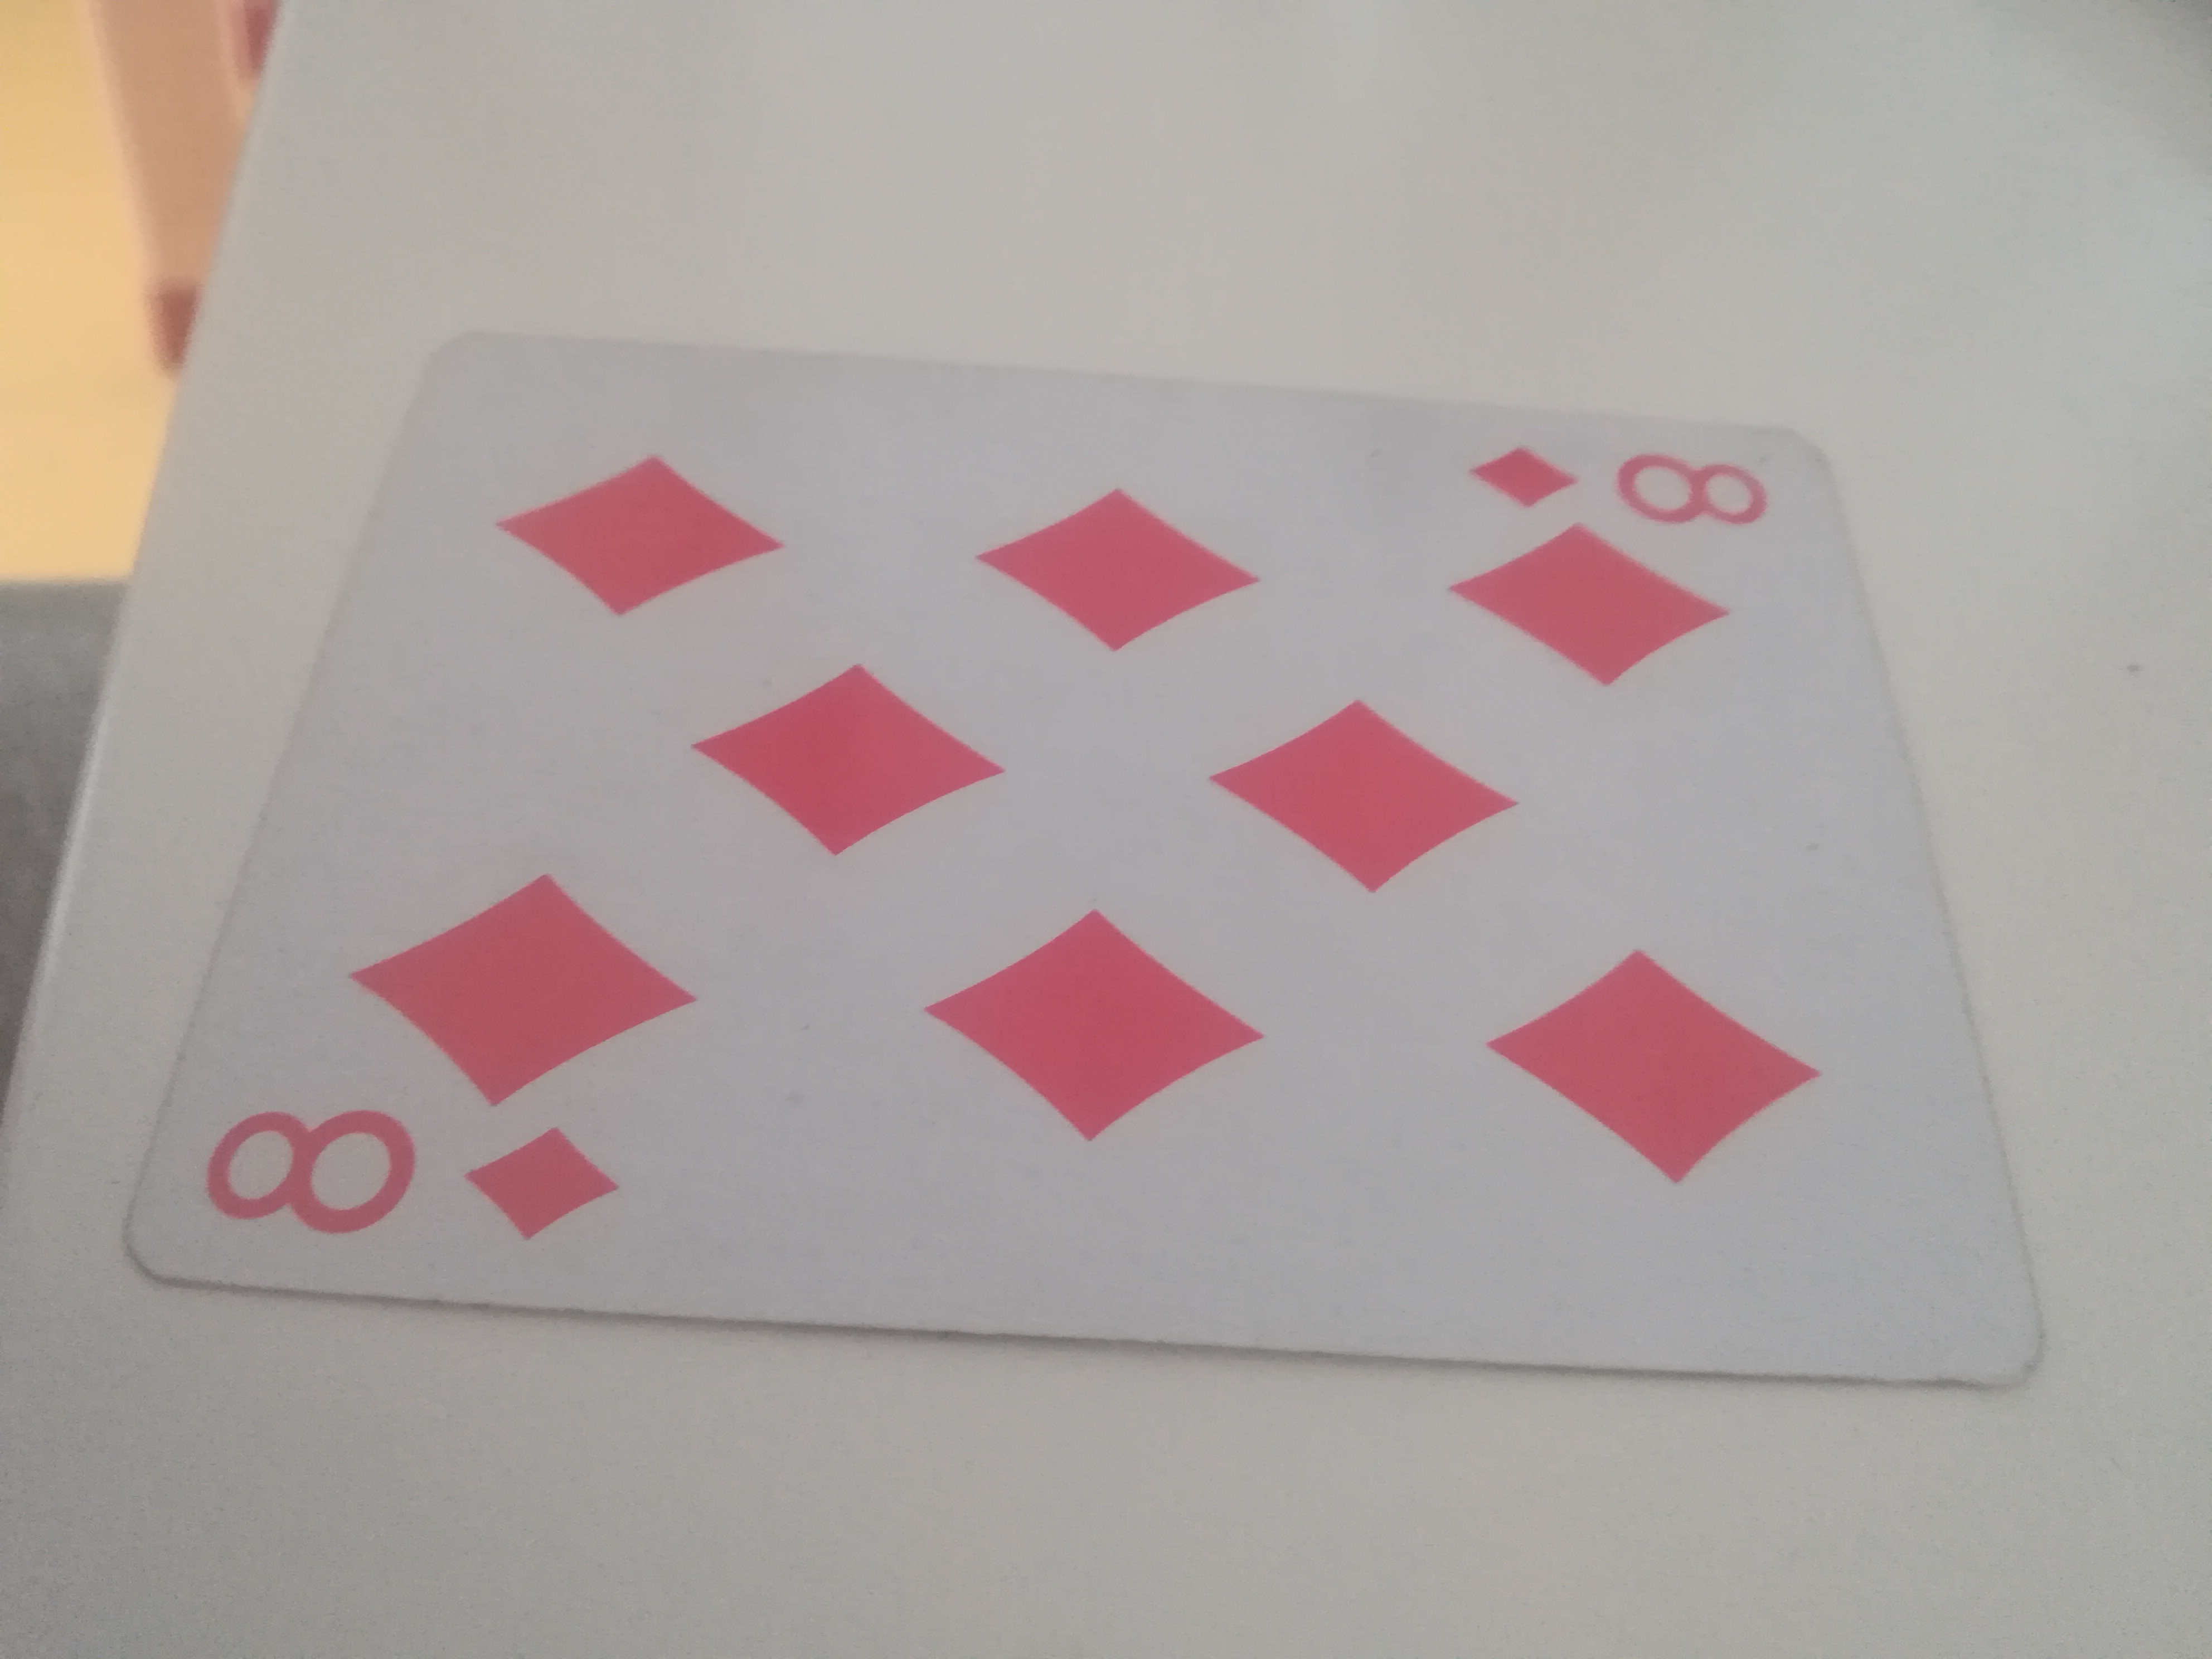8D: (138, 314, 2066, 1415)
